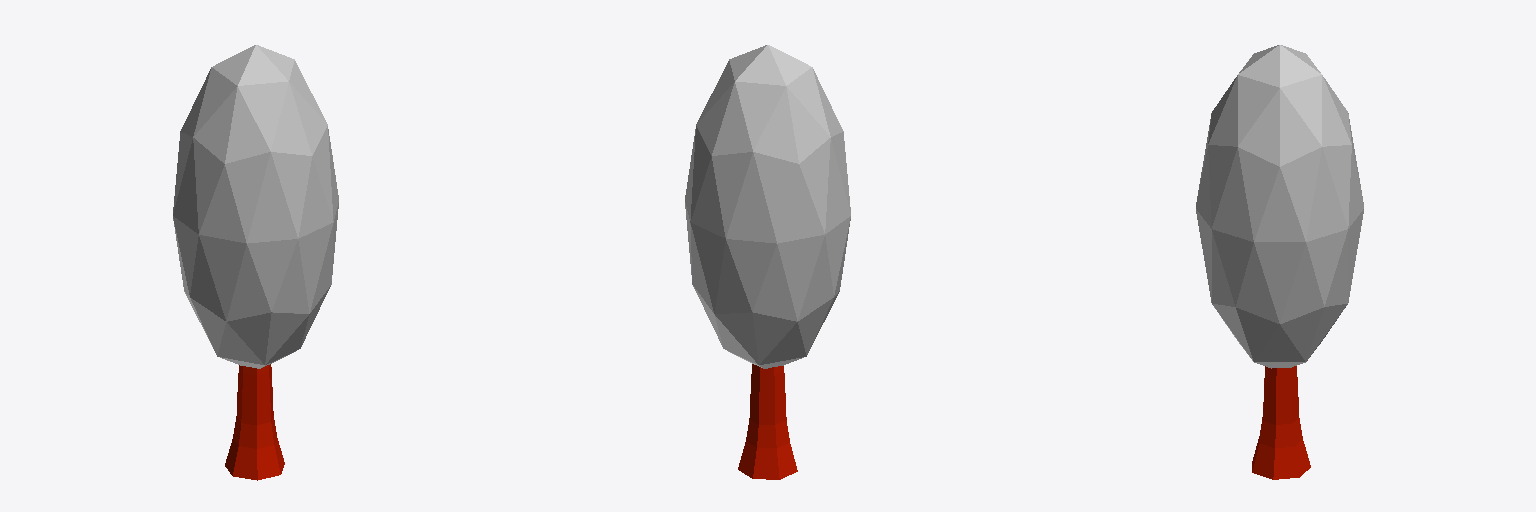
Rendered from tree_3.obj.
3 views of the same model, side by side, from view 1: azimuth 30°, elevation 25°; view 2: azimuth 150°, elevation 25°; view 3: azimuth 270°, elevation 25° (orthographic).
Parts seen in each view (by area): view 1: Icosphere.011, Cylinder.003; view 2: Icosphere.011, Cylinder.003; view 3: Icosphere.011, Cylinder.003.
Boxes of the visible parts, x1=… form: Icosphere.011: x1=173, y1=45, x2=338, y2=368; Cylinder.003: x1=225, y1=364, x2=284, y2=480; Icosphere.011: x1=685, y1=45, x2=850, y2=368; Cylinder.003: x1=738, y1=364, x2=797, y2=479; Icosphere.011: x1=1196, y1=45, x2=1363, y2=368; Cylinder.003: x1=1252, y1=366, x2=1310, y2=479.
Size of the model in its own units: 2.41 by 6.93 by 2.51.